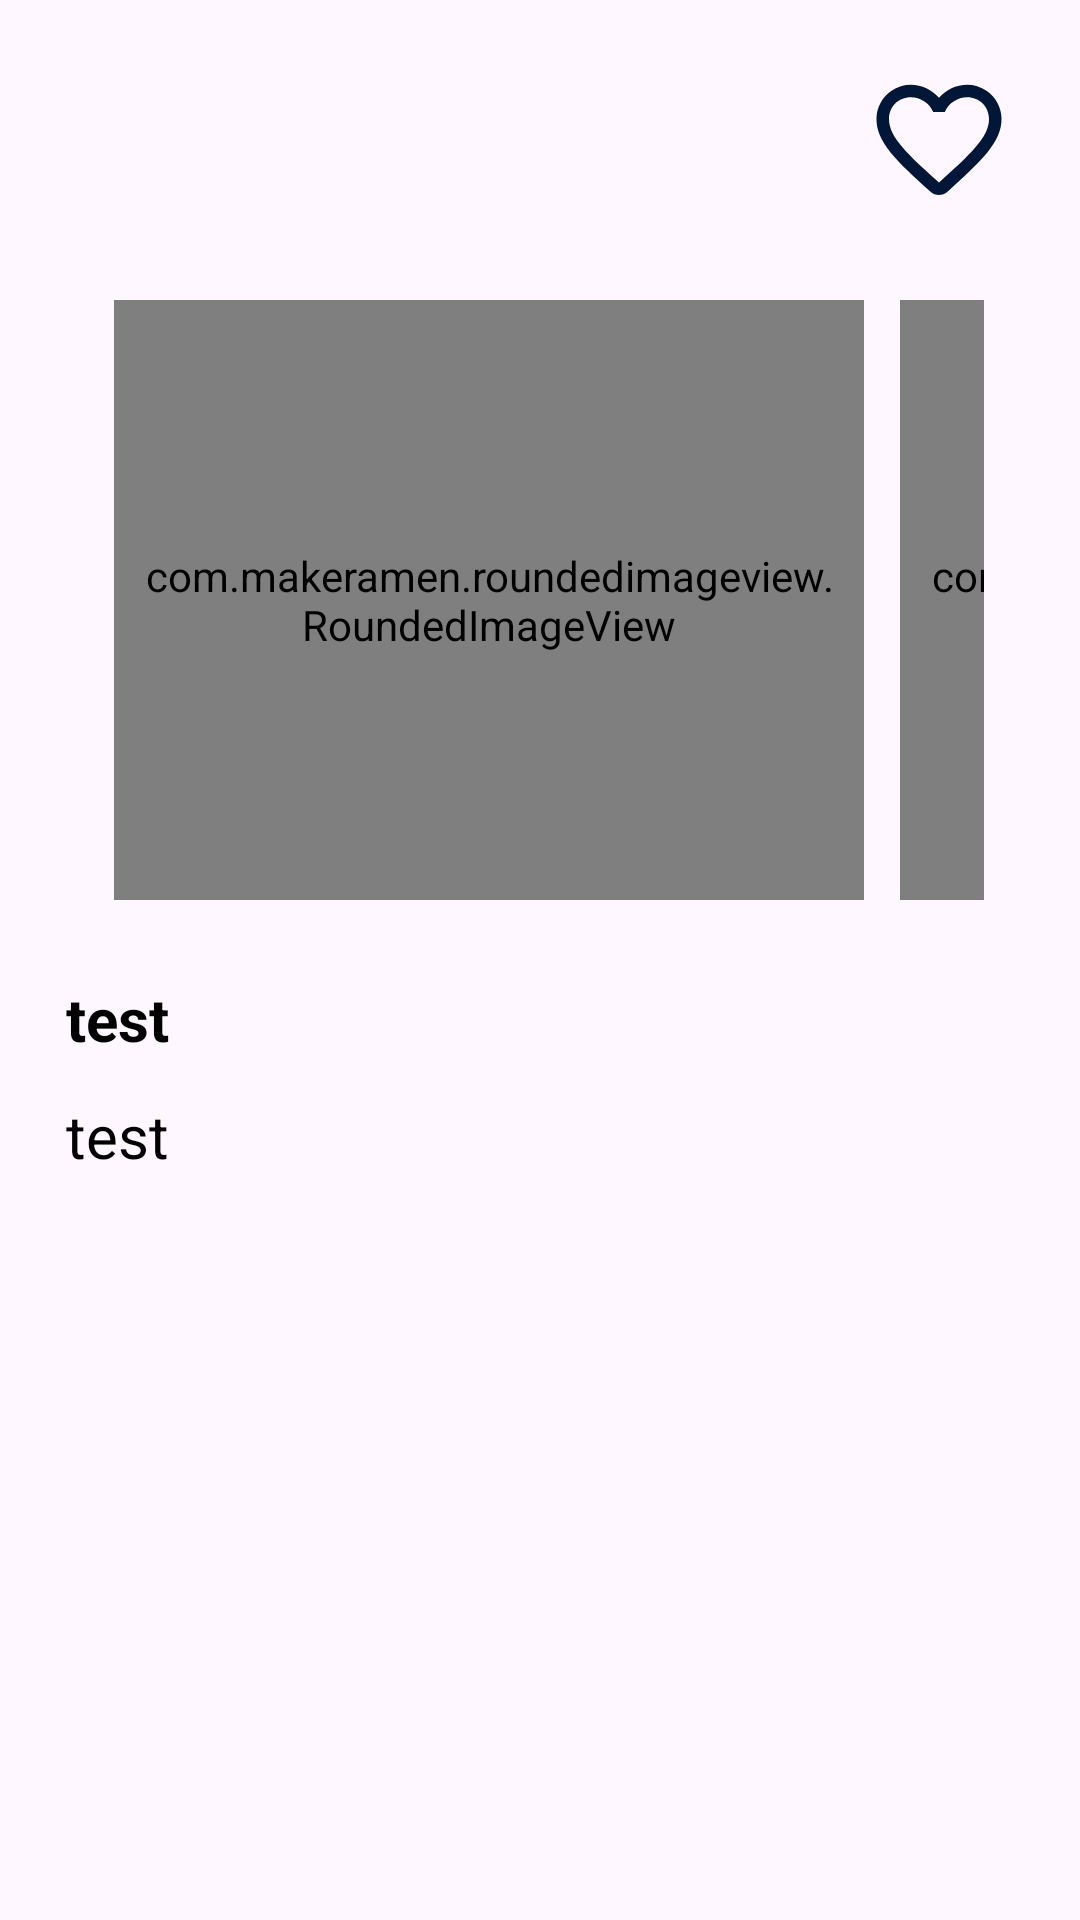

Icons on this 1080px×1920px Android screen, each with its box as (x1=x1, y1=y1, x2=x2, y2=y2):
favourite: (x1=876, y1=84, x2=1002, y2=195)
